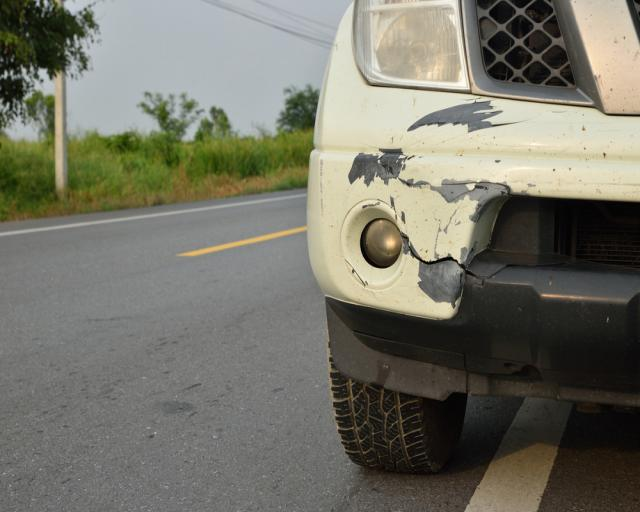crack: (400, 235, 466, 272)
scratch: (348, 100, 525, 267), (418, 261, 466, 307)
